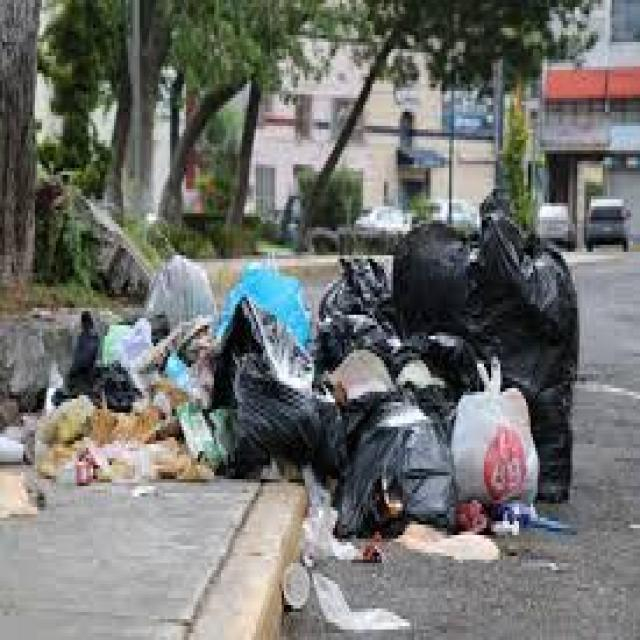garbage: (310, 198, 589, 564), (0, 238, 309, 504), (312, 563, 419, 640), (278, 554, 312, 616)
